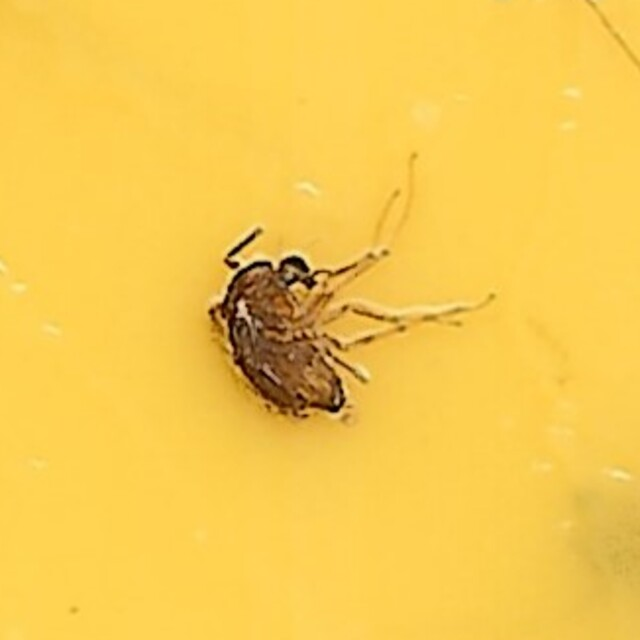Nematocera: (196, 215, 444, 425)
